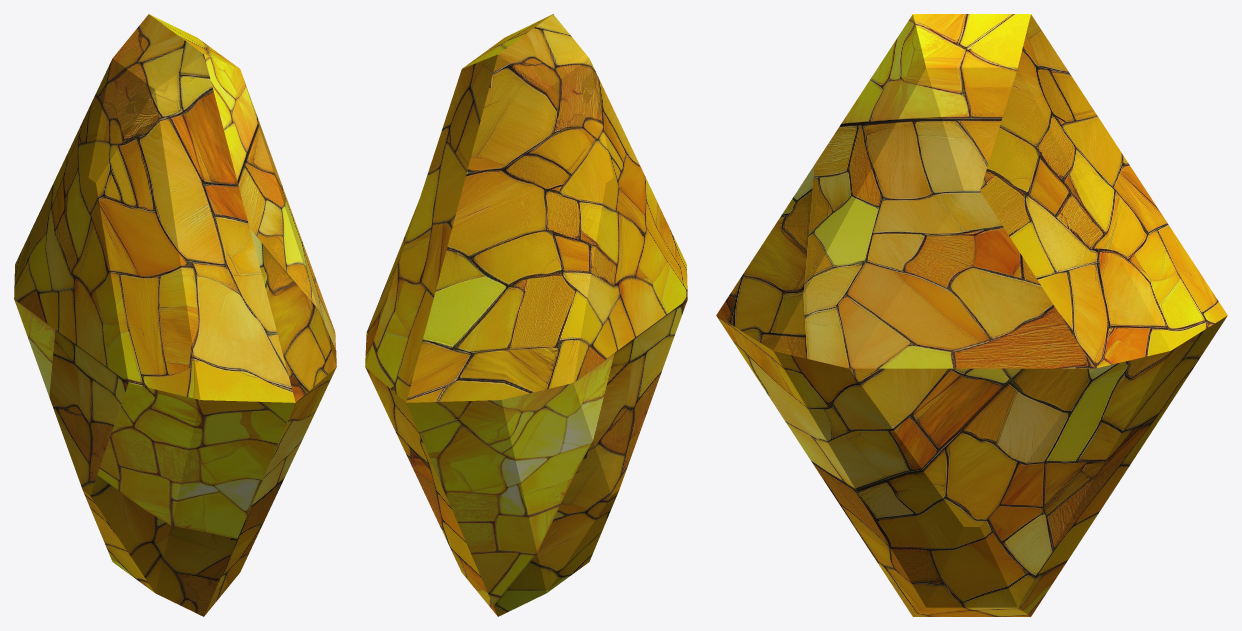
Rendered from gemstone7Yellow.glb.
3 views of the same model, side by side, from view 1: azimuth 30°, elevation 25°; view 2: azimuth 150°, elevation 25°; view 3: azimuth 270°, elevation 25° (orthographic). The views are drawn at different scales.
Parts seen in each view (by area): view 1: gemstone6; view 2: gemstone6; view 3: gemstone6.
Part boxes in pixels (x1,y1,x2,y2): gemstone6: (14,14,336,616); gemstone6: (365,14,687,616); gemstone6: (716,14,1227,616).
Bounding box in the file's own units: 0.5 × 1.3 × 1.
1 material, 1 textured.
